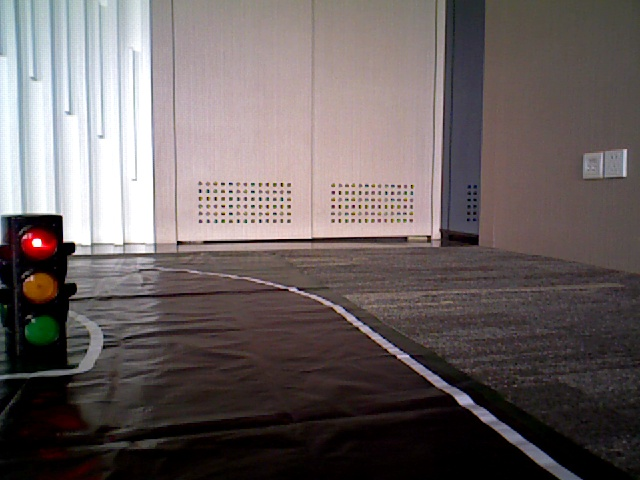red: (5, 219, 61, 360)
